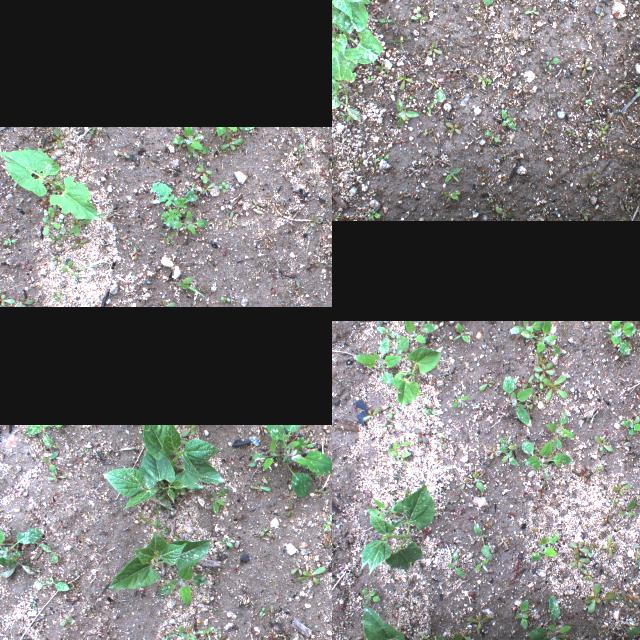crop: (100, 424, 222, 510), (109, 524, 214, 608), (0, 148, 99, 220), (360, 482, 434, 576), (247, 424, 332, 498), (392, 346, 442, 409), (332, 14, 383, 66), (332, 44, 362, 115), (361, 605, 413, 640), (332, 0, 367, 33)
weed: (524, 594, 593, 640), (150, 180, 204, 237), (0, 524, 47, 578), (352, 336, 402, 386), (38, 206, 90, 247), (501, 374, 534, 428), (522, 440, 576, 470), (396, 321, 439, 354), (24, 424, 70, 450), (546, 412, 576, 448), (31, 566, 71, 592), (607, 320, 637, 354), (172, 128, 206, 156), (583, 584, 615, 612), (537, 320, 561, 356), (530, 532, 560, 560), (148, 629, 218, 640), (473, 524, 492, 560), (396, 98, 420, 126), (508, 320, 544, 338), (40, 448, 60, 478), (499, 436, 519, 466), (459, 470, 486, 492), (193, 160, 215, 186), (494, 108, 516, 134), (296, 566, 326, 584), (544, 376, 566, 400), (446, 551, 466, 577), (428, 88, 447, 115), (216, 132, 244, 150), (211, 486, 229, 514), (534, 361, 554, 382), (515, 600, 529, 630), (574, 57, 594, 77), (615, 588, 637, 606), (38, 543, 58, 561), (453, 322, 471, 342), (620, 495, 638, 515), (622, 415, 640, 434), (467, 615, 491, 629), (604, 534, 618, 558), (341, 108, 364, 122), (388, 36, 410, 50), (377, 324, 399, 338), (444, 167, 462, 183), (290, 558, 306, 576), (533, 481, 551, 497), (247, 481, 273, 492), (495, 206, 515, 220), (450, 393, 470, 407), (570, 554, 590, 568), (569, 540, 589, 554), (612, 482, 632, 496), (434, 633, 473, 640), (195, 626, 214, 640), (446, 122, 462, 138), (523, 4, 539, 20), (378, 12, 392, 30), (394, 451, 412, 465), (594, 436, 612, 450), (0, 291, 15, 307), (414, 428, 431, 442), (623, 626, 640, 640), (362, 589, 380, 601), (322, 509, 332, 529), (398, 76, 412, 90), (428, 41, 442, 55), (601, 511, 615, 525), (524, 394, 538, 408), (365, 208, 381, 220), (412, 13, 428, 25), (476, 74, 492, 86), (258, 525, 274, 537), (518, 374, 534, 386), (364, 408, 380, 419), (516, 82, 530, 94), (486, 130, 500, 142), (546, 57, 560, 69), (598, 123, 610, 137), (61, 612, 73, 626), (475, 559, 489, 571), (629, 625, 640, 640), (378, 420, 394, 430), (426, 78, 439, 90), (480, 378, 494, 389), (398, 187, 408, 201), (444, 192, 458, 202), (573, 95, 587, 105), (387, 442, 397, 456), (497, 59, 508, 71), (376, 60, 386, 72), (432, 41, 438, 61), (540, 123, 550, 135), (564, 126, 576, 136), (222, 536, 232, 548), (581, 570, 593, 580), (590, 540, 600, 552), (481, 174, 494, 182), (354, 157, 364, 167), (378, 66, 388, 76), (446, 72, 456, 82), (508, 30, 518, 40), (581, 210, 591, 220), (596, 5, 604, 17), (620, 53, 628, 65), (421, 128, 432, 136), (372, 4, 382, 12), (368, 10, 378, 18), (405, 87, 413, 97), (500, 38, 510, 46), (588, 171, 596, 181), (624, 201, 634, 209), (634, 539, 640, 552), (411, 83, 423, 89), (352, 88, 361, 96), (633, 553, 640, 563), (442, 68, 453, 74), (600, 138, 608, 146), (416, 6, 422, 16), (628, 178, 634, 188), (260, 606, 266, 616), (454, 72, 461, 80), (553, 125, 561, 132), (353, 0, 371, 3), (452, 190, 464, 194), (488, 195, 494, 203), (409, 95, 416, 101), (374, 156, 384, 160), (586, 98, 592, 104), (384, 154, 388, 160), (368, 76, 374, 80), (504, 154, 506, 160), (446, 118, 450, 120)
